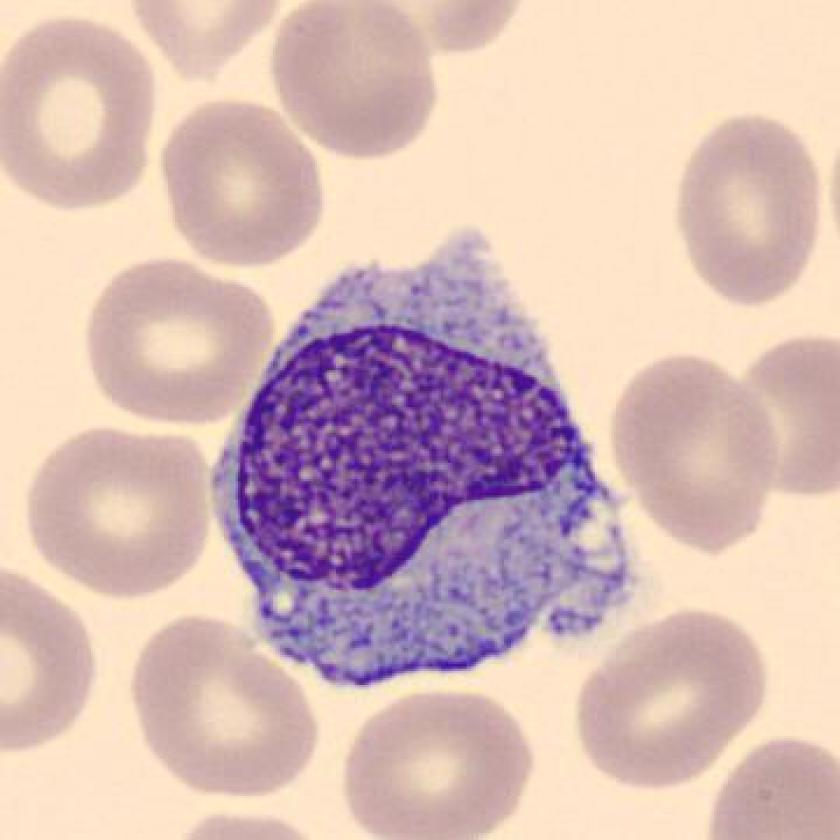monocyte: (192, 225, 659, 707)
